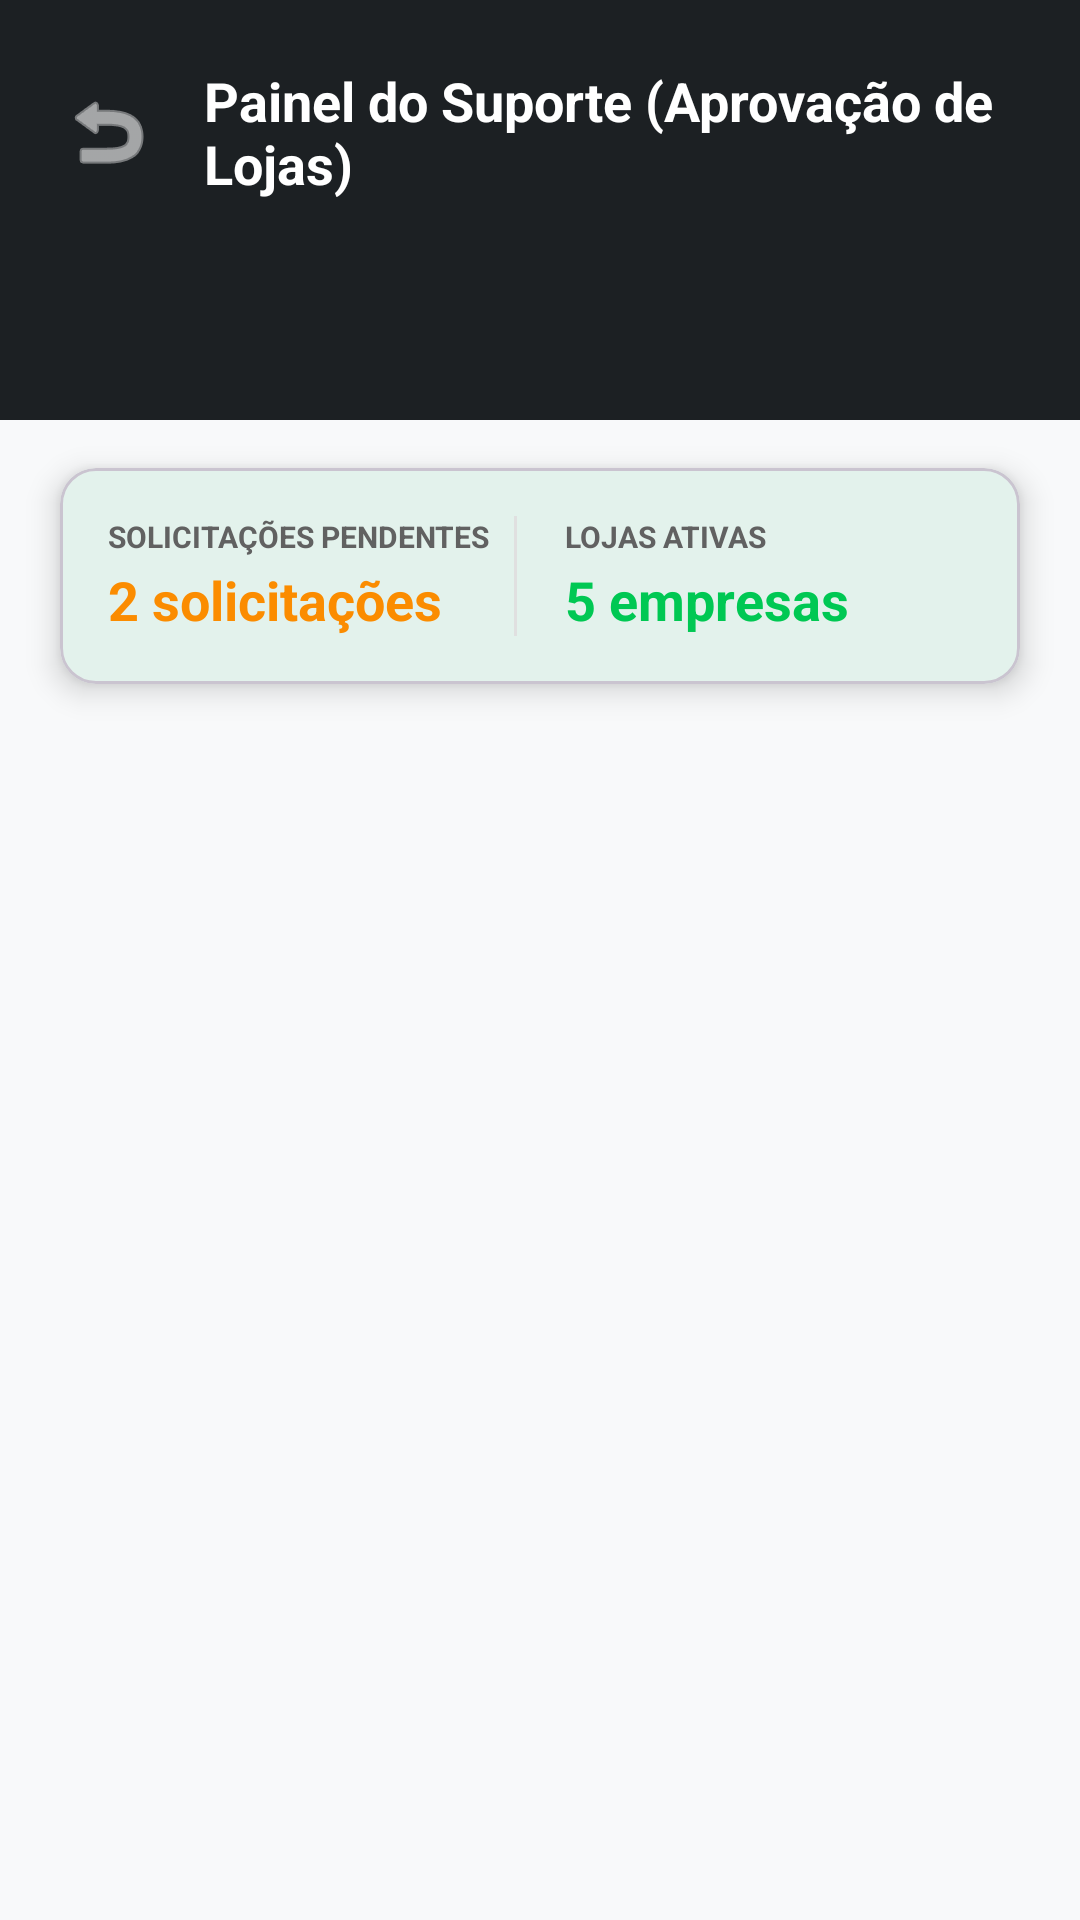

Where icons sit on this 1080x1920 app screen, as [x1,y1,x2,y2]:
Voltar: [75,101,144,164]
